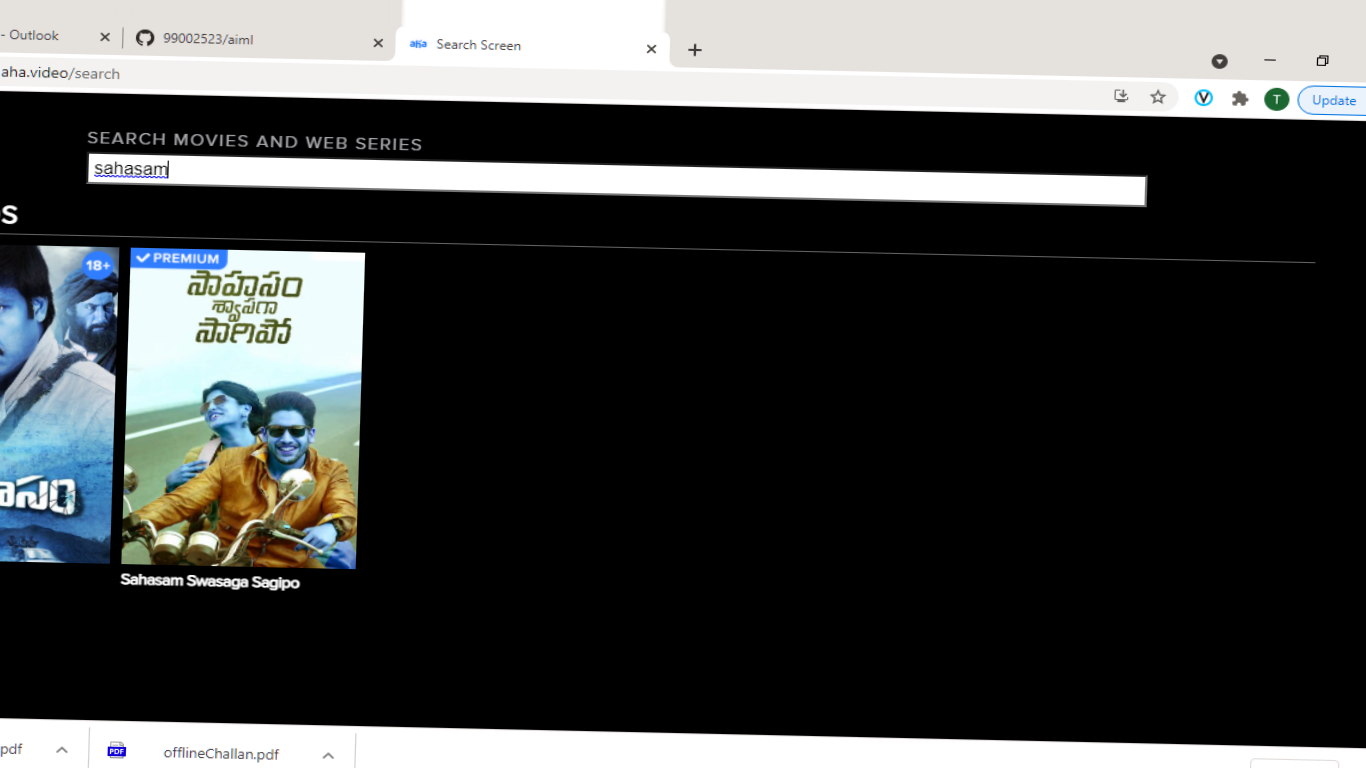resultsfound: (11, 185, 762, 248)
searchtextbox: (67, 122, 1182, 237)
